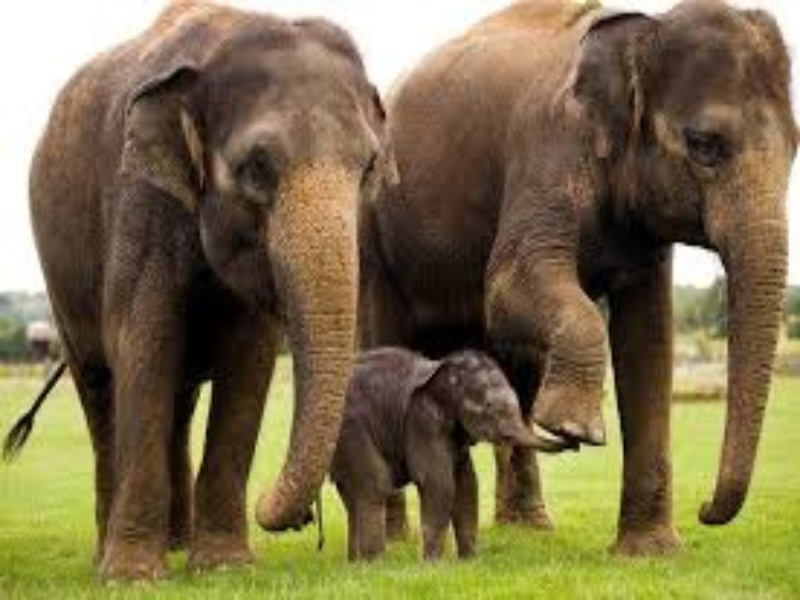elephant: (16, 1, 387, 532), (429, 1, 800, 532), (340, 344, 558, 571)
